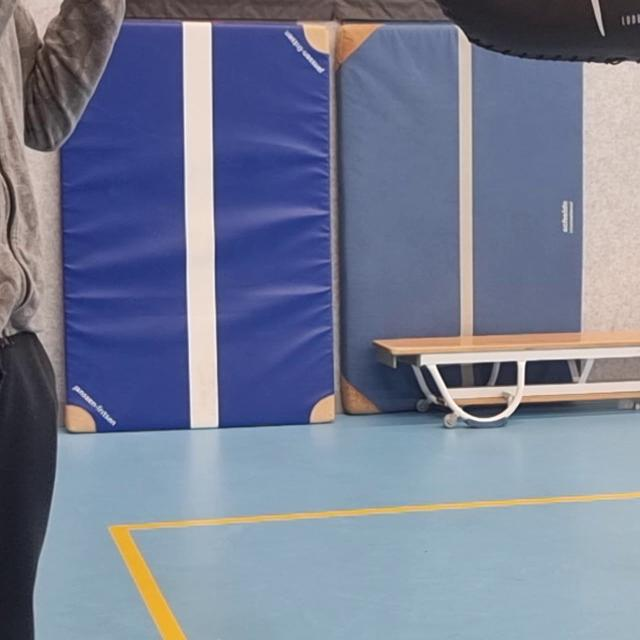paddle: (428, 0, 640, 67)
